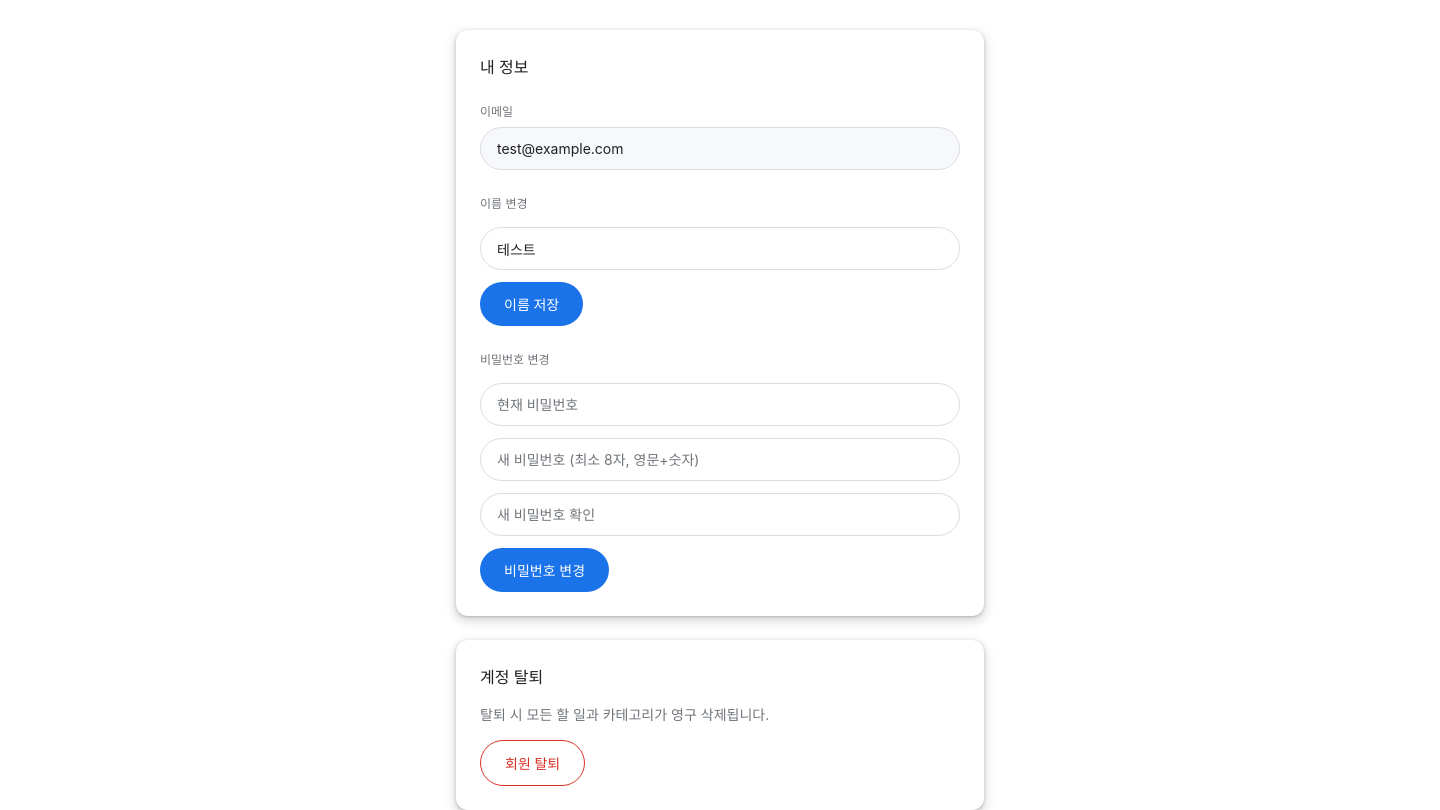
ProfilePage › 회원 탈퇴 버튼 클릭 시 확인 다이얼로그가 표시된다
(page scrolled)
Click the button "회원 탈퇴": (533,763) [480,740,585,786]
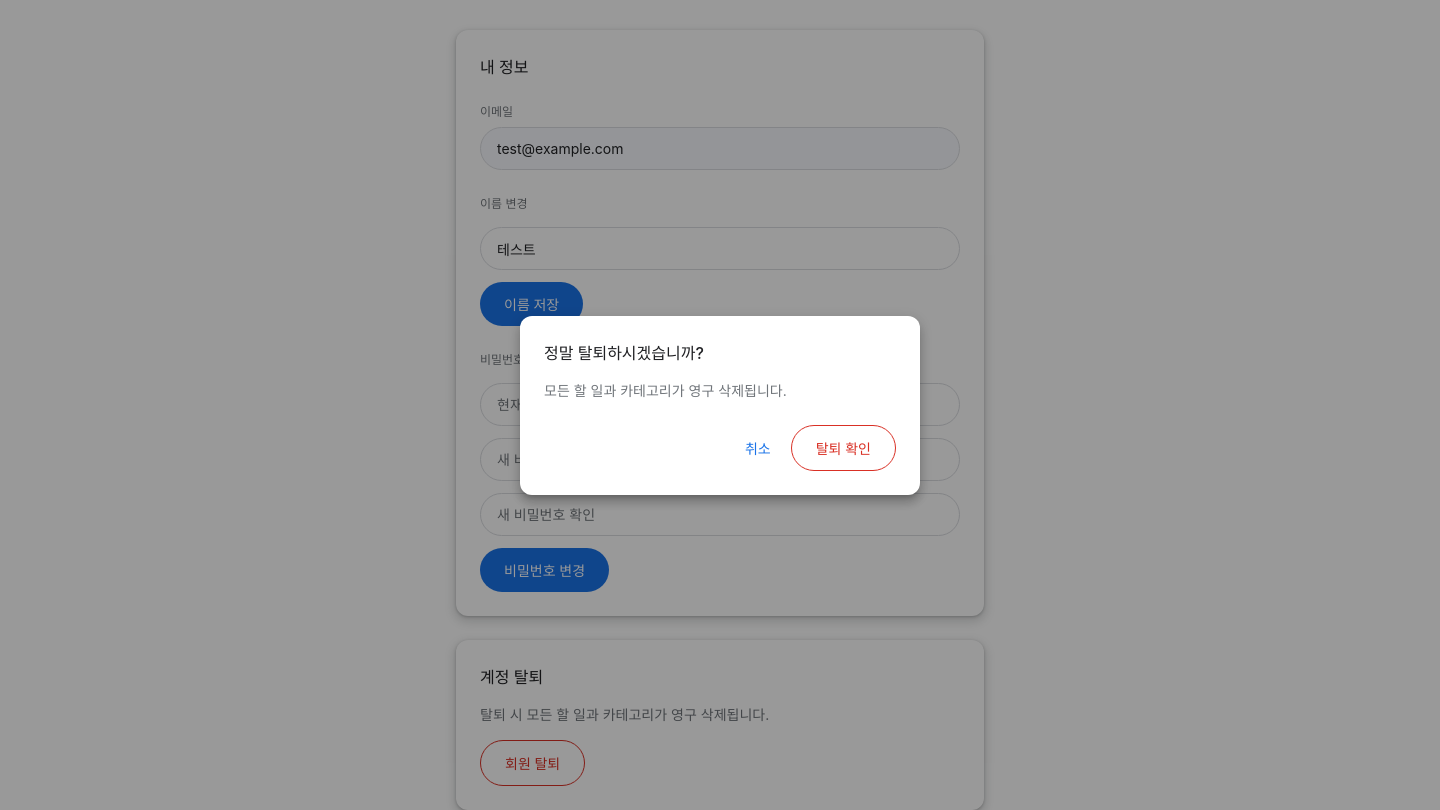
Now the heading "정말 탈퇴하시겠습니까?" is shown, box [544,342,704,362]
Now the text "모든 할 일과 카테고리가 영구 삭제됩니다." is shown, box [544,382,787,398]
